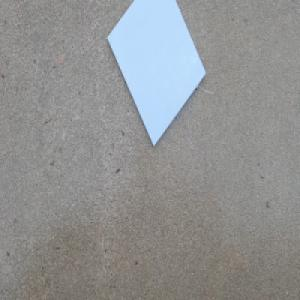PaintChip: (106, 0, 208, 147)
